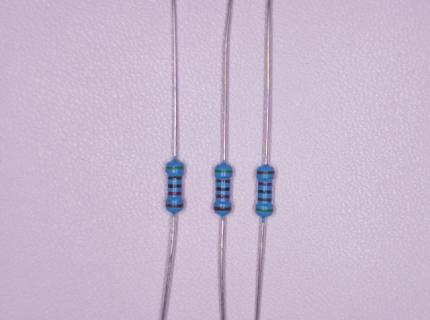Black band: (216, 187, 230, 192), (258, 190, 272, 194), (168, 184, 181, 188)
Brown band: (257, 171, 274, 175), (168, 176, 182, 180), (166, 204, 183, 207), (214, 207, 231, 210), (258, 198, 272, 201), (217, 180, 230, 183)
Green band: (166, 166, 183, 170), (215, 170, 232, 173), (257, 209, 273, 211)
Red band: (216, 194, 230, 199), (258, 182, 272, 185), (168, 192, 181, 195)
